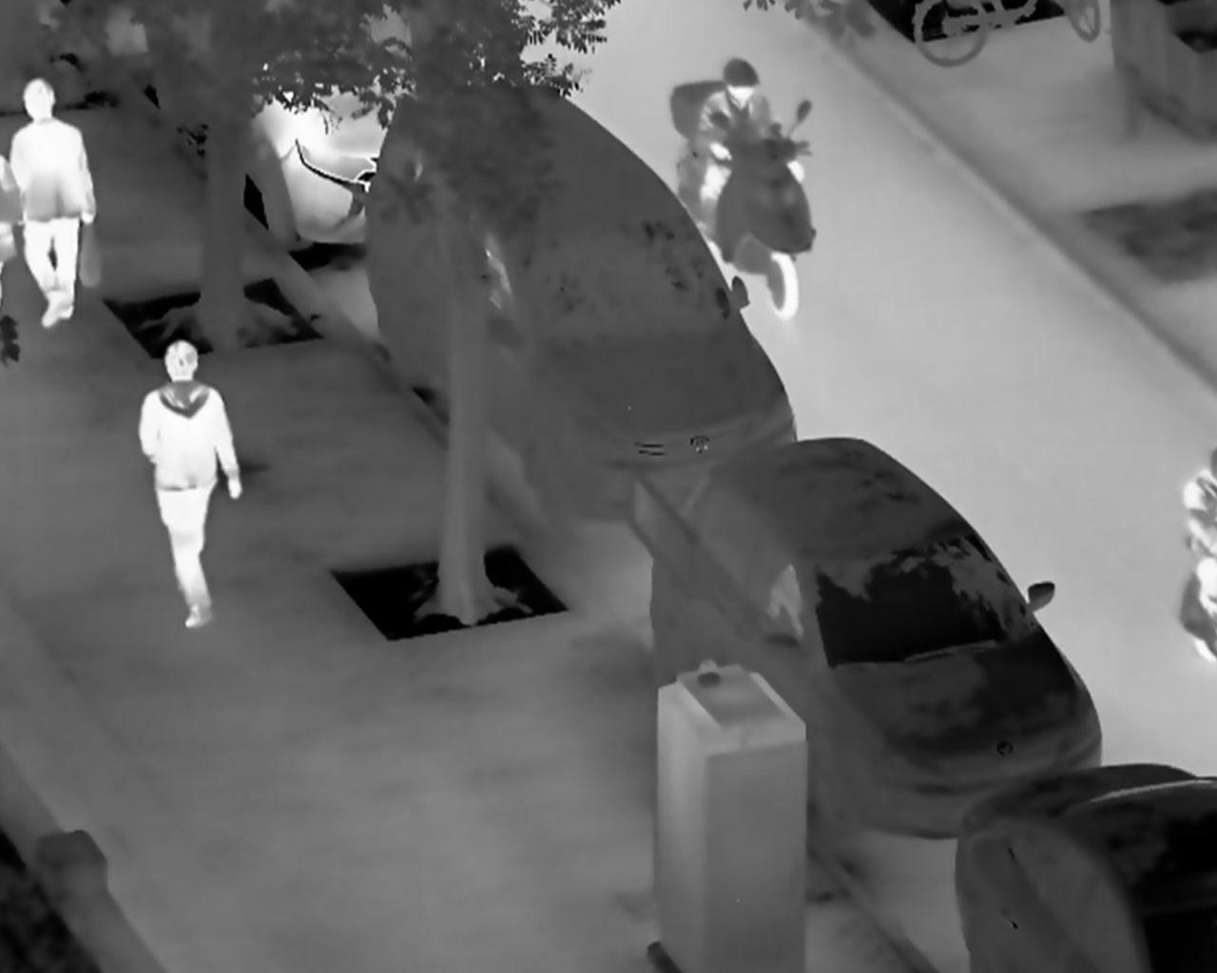person: (135, 336, 242, 629), (9, 76, 99, 327), (692, 53, 807, 247)
